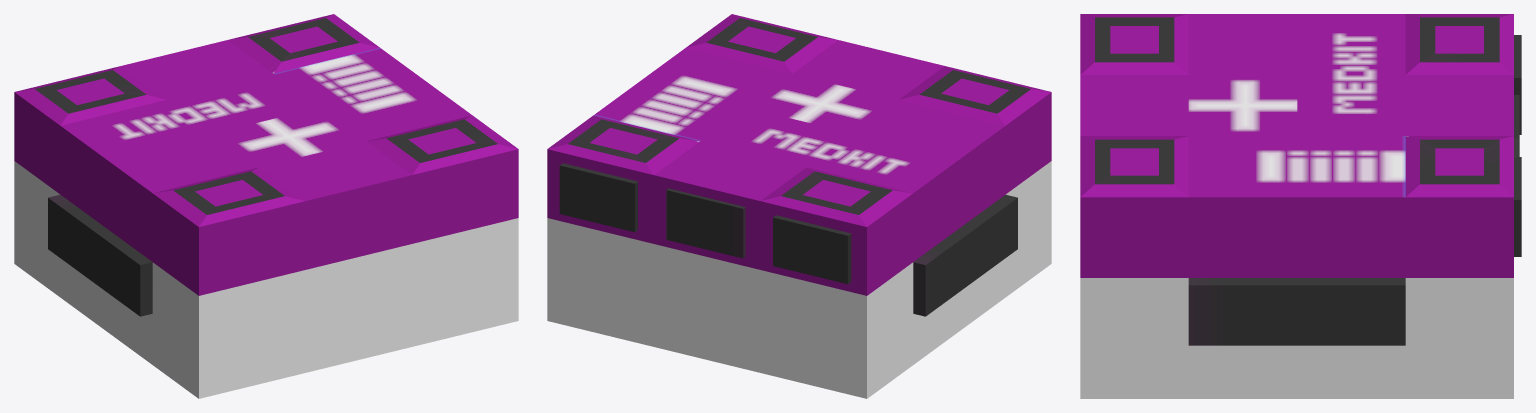
Rendered from MedKit_P.fbx.
The picture shows the model from 3 angles, left to right: view 1: azimuth 30°, elevation 25°; view 2: azimuth 150°, elevation 25°; view 3: azimuth 270°, elevation 25°; orthographic projection. The views are drawn at different scales.
Visible parts, largest first — view 1: MedKit; view 2: MedKit; view 3: MedKit.
Part boxes in pixels (x1,y1,x2,y2): MedKit: (14, 14, 518, 398); MedKit: (547, 14, 1051, 398); MedKit: (1080, 14, 1521, 398).
Size of the model in its own units: 216 by 105 by 204.
